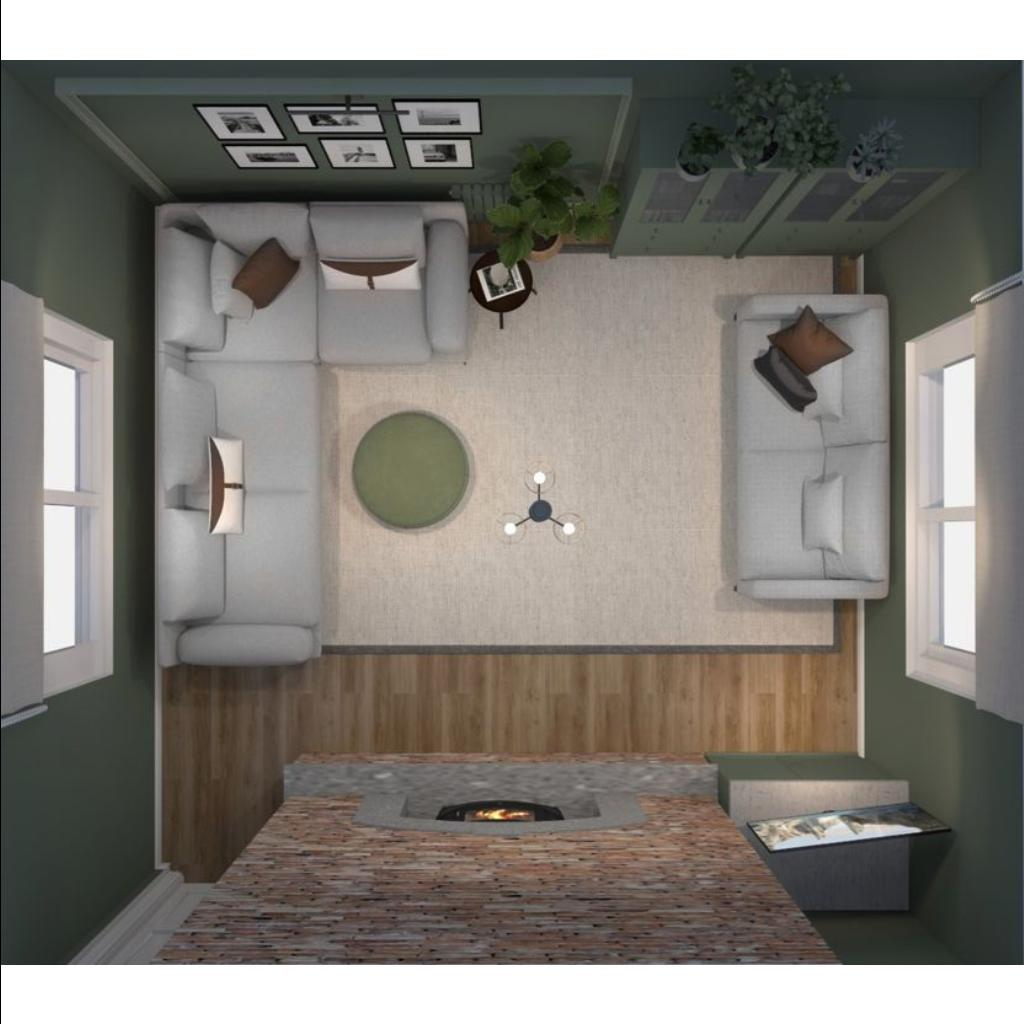bookshelf: (606, 173, 892, 249)
cabinet: (712, 758, 910, 858)
coffee table: (349, 412, 467, 530)
fireplace: (286, 758, 710, 856)
floor plant: (510, 196, 562, 248)
rug: (224, 256, 830, 648)
side table: (476, 256, 532, 326)
sofa: (153, 190, 473, 360), (156, 364, 316, 668), (730, 295, 888, 597)
window: (991, 284, 1021, 718), (5, 294, 31, 704)
